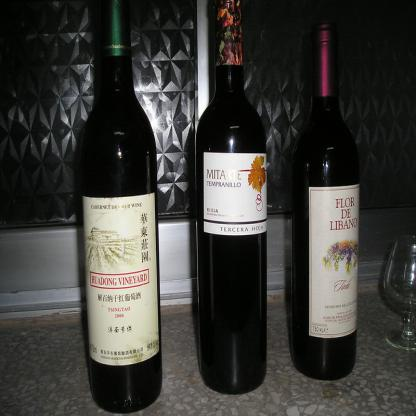drinking: (80, 0, 163, 413), (195, 0, 267, 395), (292, 21, 360, 381)
